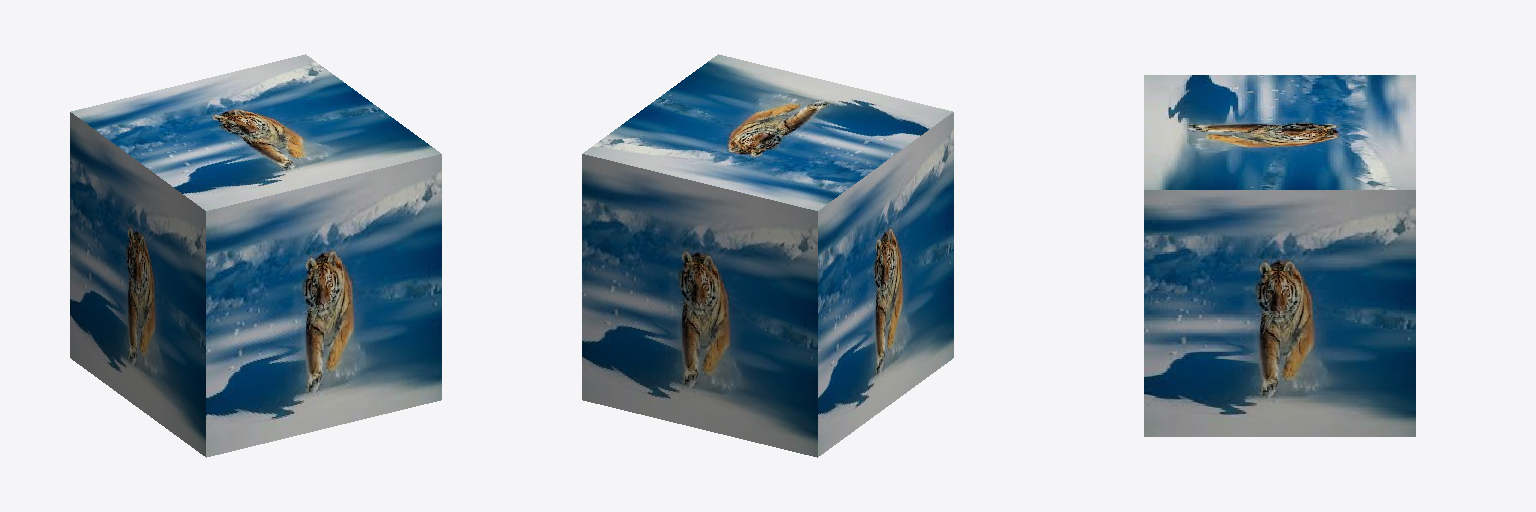
The picture shows the model from 3 angles: view 1: azimuth 30°, elevation 25°; view 2: azimuth 150°, elevation 25°; view 3: azimuth 270°, elevation 25°; orthographic projection.
Visible parts, largest first — view 1: cube; view 2: cube; view 3: cube.
Part boxes in pixels (bbox=[...]): cube: bbox=[70, 54, 441, 457]; cube: bbox=[582, 54, 953, 457]; cube: bbox=[1144, 75, 1415, 436].
Bounding box in the file's own units: 1 × 1 × 1.
Materials: 1 (1 with a texture image).